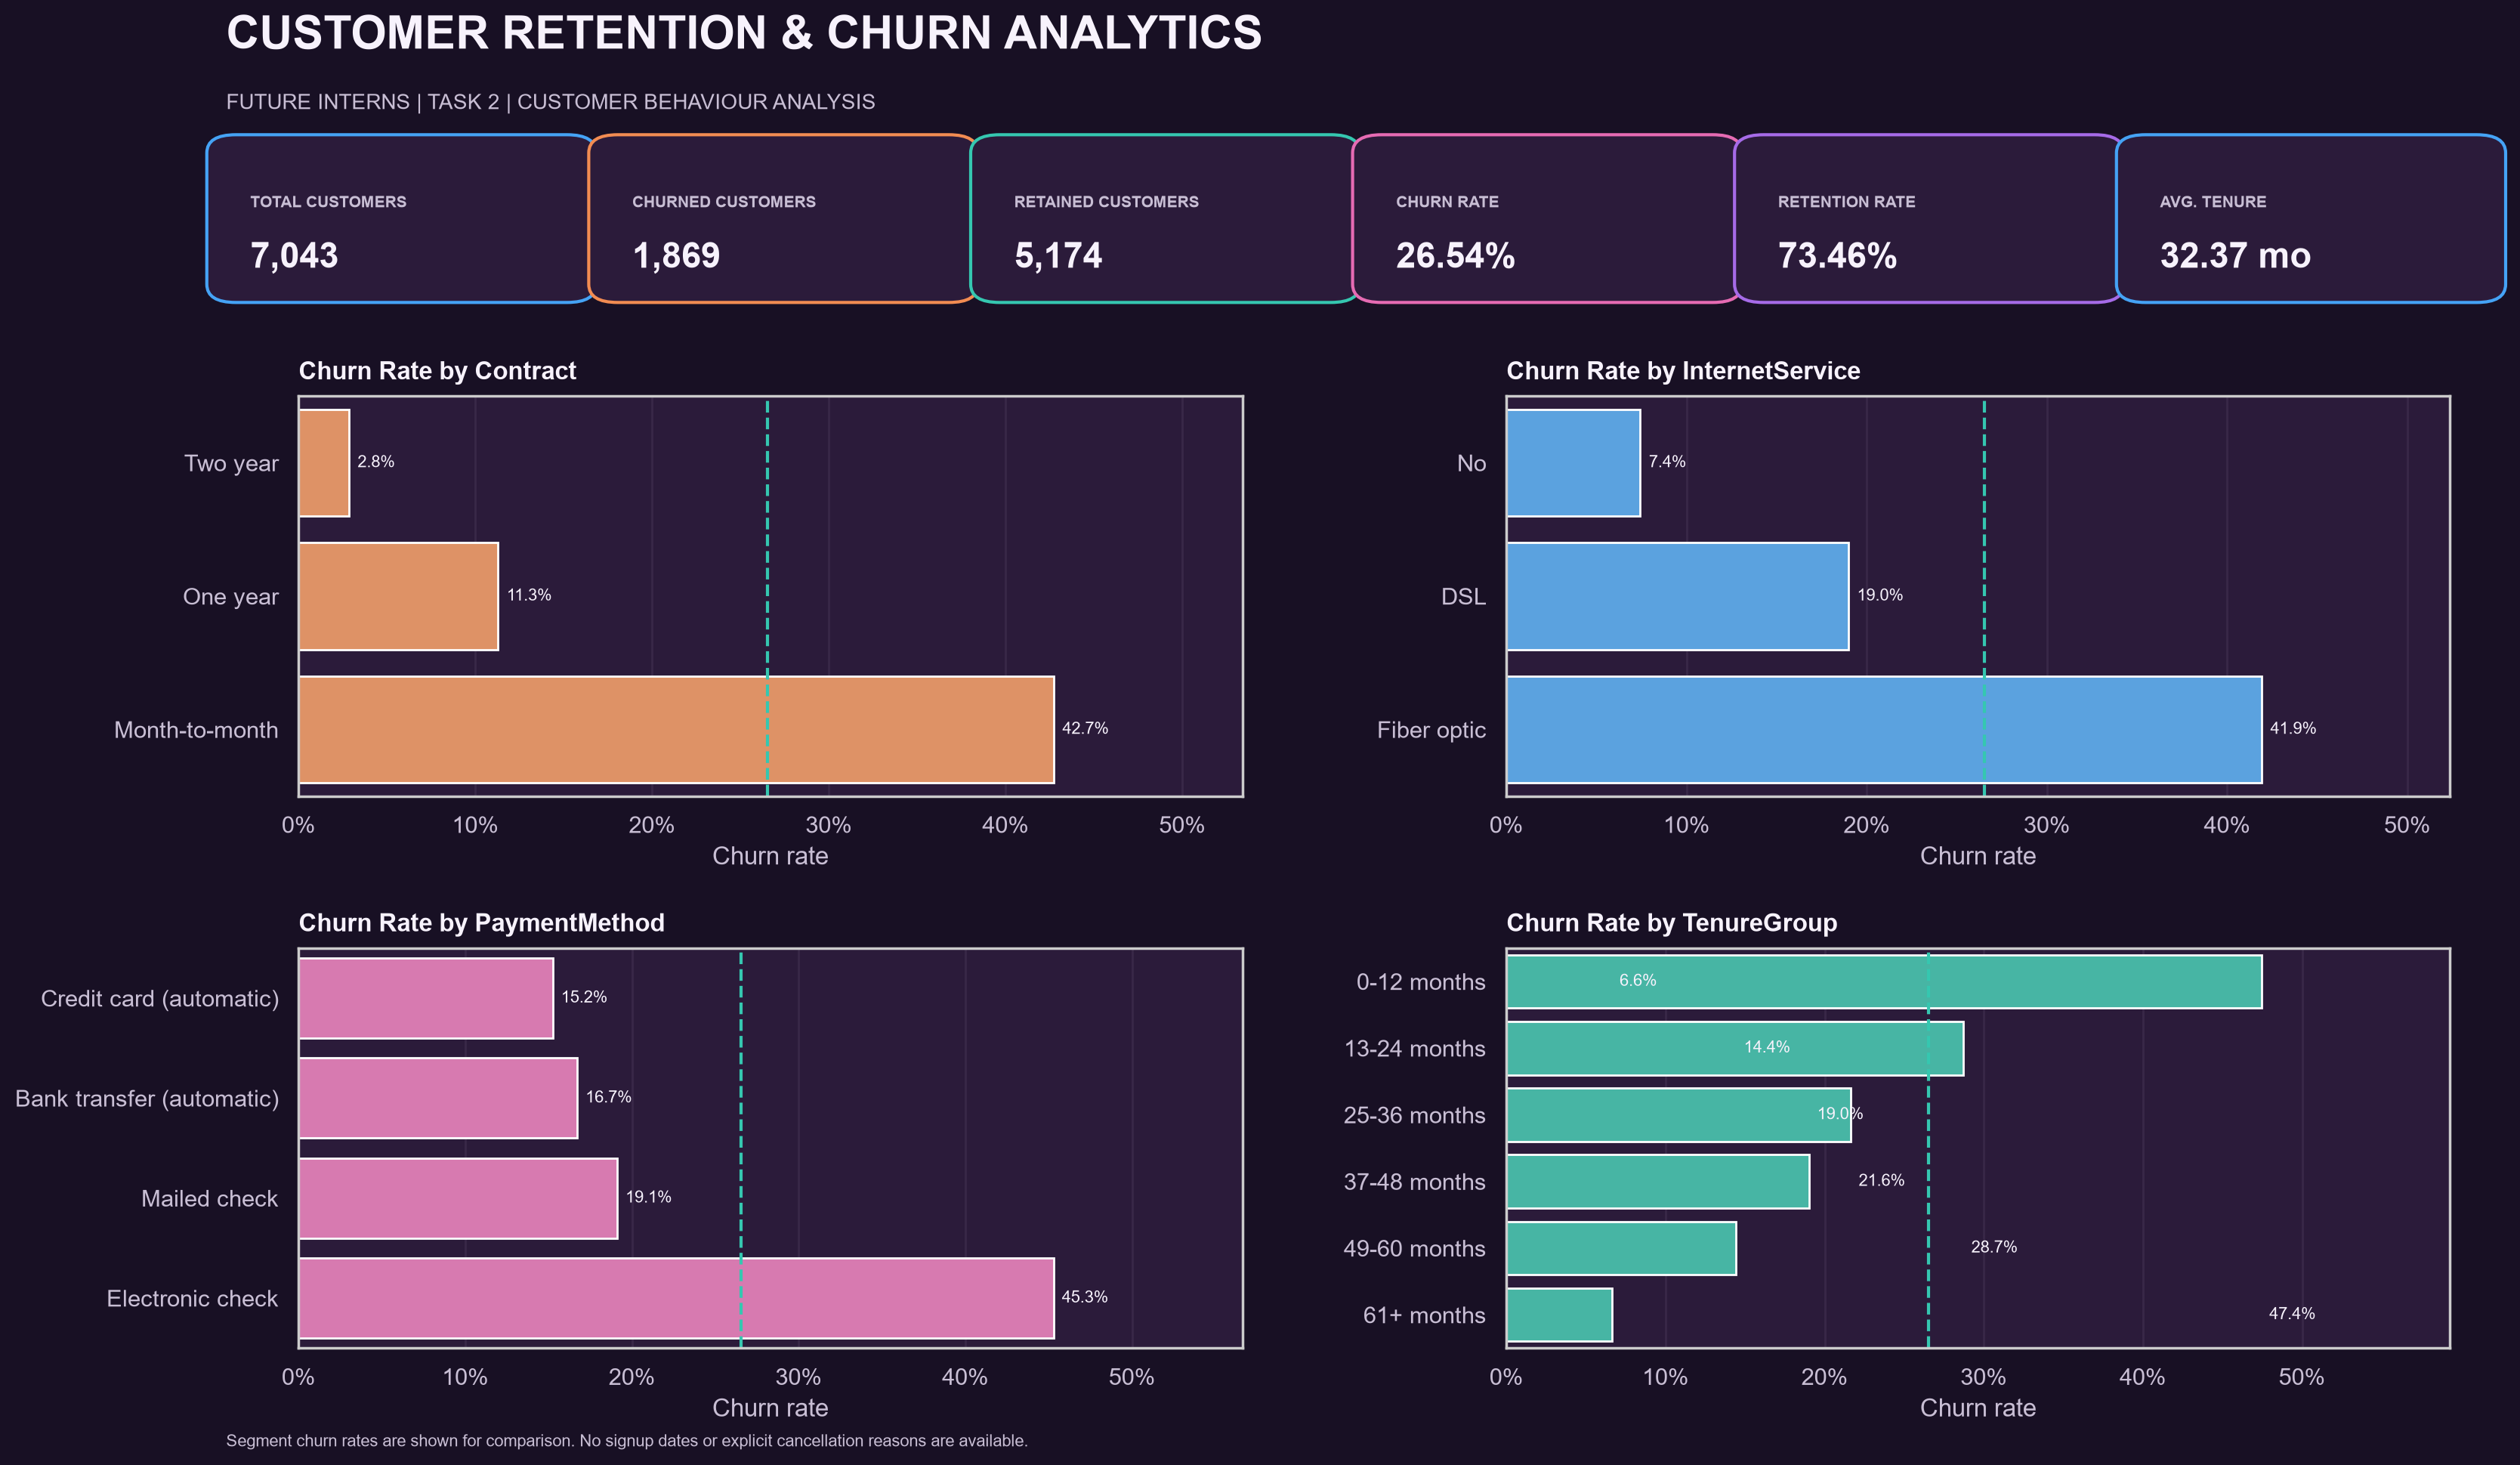

This screenshot's page, from the dashboard's own definition file:
{"tool":"powerbi","page":{"name":"Page 1","canvas":[1280,720],"ordinal":0},"visuals":[{"type":"textbox","box":[192.1,0,798.6,60.4],"z":0},{"type":"cardVisual","fields":{"Data":["CustomerData.Total Customers"]},"box":[31.6,60.4,194.9,146.8],"z":1000},{"type":"cardVisual","fields":{"Data":["CustomerData.Churned Customers"]},"box":[226.4,60.4,211.3,146.8],"z":2000},{"type":"cardVisual","fields":{"Data":["CustomerData.Retained Customers"]},"box":[437.7,63.1,219.6,144.1],"z":3000},{"type":"cardVisual","fields":{"Data":["CustomerData.Churn Rate"]},"box":[657.3,61.7,192.1,145.5],"z":4000},{"type":"cardVisual","fields":{"Data":["CustomerData.Retention Rate"]},"box":[849.4,61.7,194.9,145.5],"z":5000},{"type":"cardVisual","fields":{"Data":["CustomerData.Average Tenure Fixed"]},"box":[1044.3,63.1,192.1,144.1],"z":6000},{"type":"clusteredBarChart","fields":{"Category":["CustomerData.Contract"],"Y":["CountNonNull(CustomerData.customerID)"]},"box":[31.3,473.2,395,231.6],"z":7000},{"type":"clusteredColumnChart","title":"Customer Churn by Contract Type","fields":{"Category":["CustomerData.Contract"],"Y":["CountNonNull(CustomerData.customerID)"],"Series":["CustomerData.Churn"]},"box":[426.3,206,406.4,252.9],"z":7001},{"type":"clusteredColumnChart","title":"Customer Churn by Payment Method","fields":{"Y":["CountNonNull(CustomerData.customerID)"],"Series":["CustomerData.Churn"],"Category":["CustomerData.PaymentMethod"]},"box":[36.9,206,379.4,252.9],"z":7002},{"type":"clusteredColumnChart","title":"Customer Churn by Internet Service","fields":{"Y":["CountNonNull(CustomerData.customerID)"],"Series":["CustomerData.Churn"],"Category":["CustomerData.InternetService"]},"box":[849.7,207.5,420.6,251.5],"z":7003},{"type":"clusteredColumnChart","title":"Customer Churn by Tenure.","fields":{"Y":["CountNonNull(CustomerData.customerID)"],"Series":["CustomerData.Churn"],"Category":["CustomerData.tenure"]},"box":[449,473.2,571.2,247.2],"z":7004},{"type":"slicer","fields":{"Values":["CustomerData.Contract"]},"box":[1060,473.2,181.9,140.7],"z":7005}]}

Visuals, with their boxes on the page's 1280x720 design canvas (x1, y1, x2, y2). These are canvas units, not pixel positions in the 2520x1465 screenshot, which may show the page scaled, cropped or inside an application window:
textbox: pyautogui.locateOnScreen(192, 0, 991, 60)
cardVisual - CustomerData.Total Customers: pyautogui.locateOnScreen(32, 60, 226, 207)
cardVisual - CustomerData.Churned Customers: pyautogui.locateOnScreen(226, 60, 438, 207)
cardVisual - CustomerData.Retained Customers: pyautogui.locateOnScreen(438, 63, 657, 207)
cardVisual - CustomerData.Churn Rate: pyautogui.locateOnScreen(657, 62, 849, 207)
cardVisual - CustomerData.Retention Rate: pyautogui.locateOnScreen(849, 62, 1044, 207)
cardVisual - CustomerData.Average Tenure Fixed: pyautogui.locateOnScreen(1044, 63, 1236, 207)
clusteredBarChart - CustomerData.Contract x CountNonNull(CustomerData.customerID): pyautogui.locateOnScreen(31, 473, 426, 705)
"Customer Churn by Contract Type" clusteredColumnChart: pyautogui.locateOnScreen(426, 206, 833, 459)
"Customer Churn by Payment Method" clusteredColumnChart: pyautogui.locateOnScreen(37, 206, 416, 459)
"Customer Churn by Internet Service" clusteredColumnChart: pyautogui.locateOnScreen(850, 208, 1270, 459)
"Customer Churn by Tenure." clusteredColumnChart: pyautogui.locateOnScreen(449, 473, 1020, 720)
slicer - CustomerData.Contract: pyautogui.locateOnScreen(1060, 473, 1242, 614)
